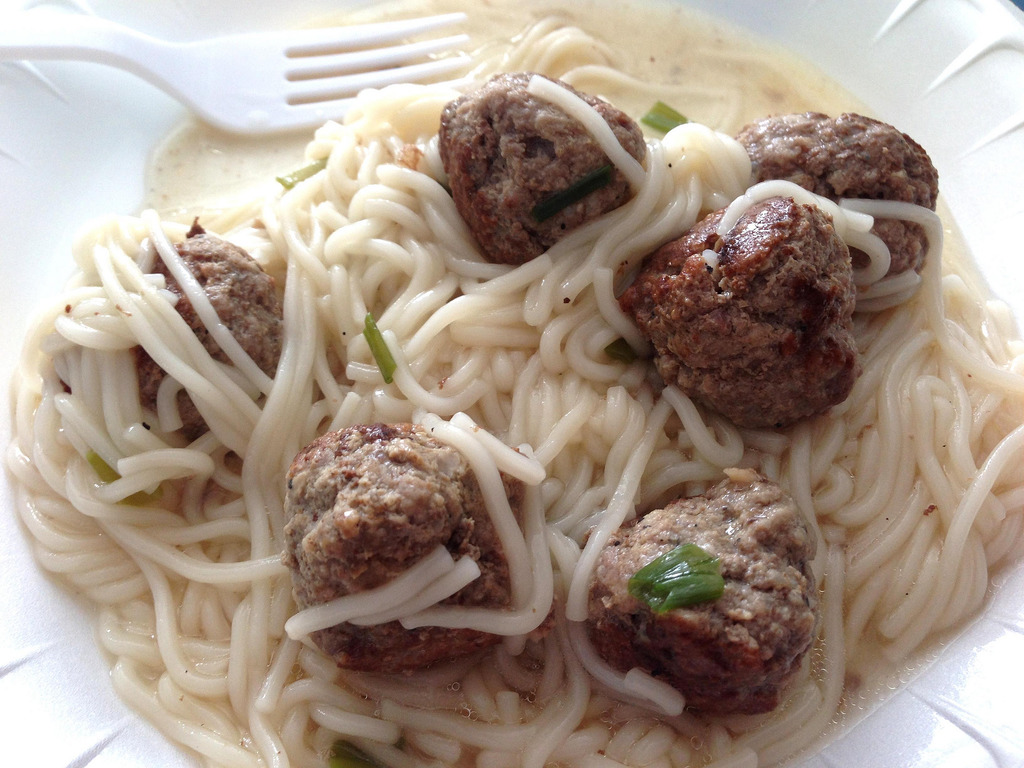meatballs: (635, 210, 853, 418), (299, 446, 516, 654), (600, 500, 808, 695), (452, 83, 629, 243), (757, 120, 931, 277), (135, 249, 274, 404)
plain spaghetti: (26, 92, 1018, 764)
